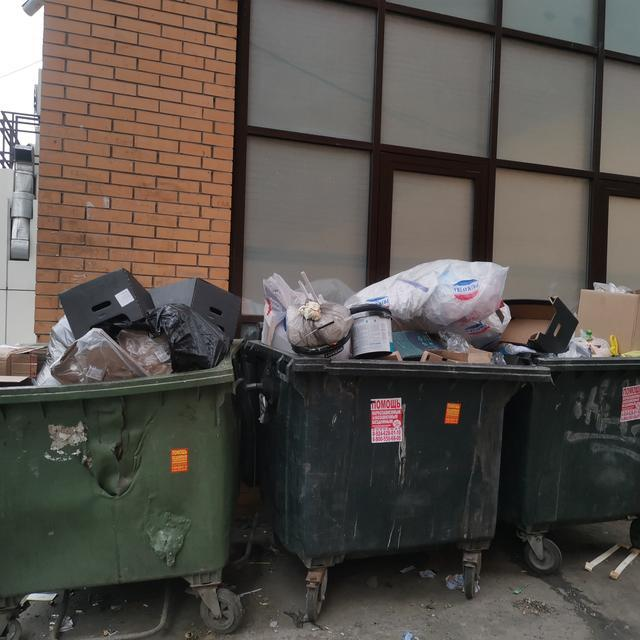Trash_Can_Full: (249, 258, 528, 555), (0, 270, 235, 597), (503, 283, 640, 528)
